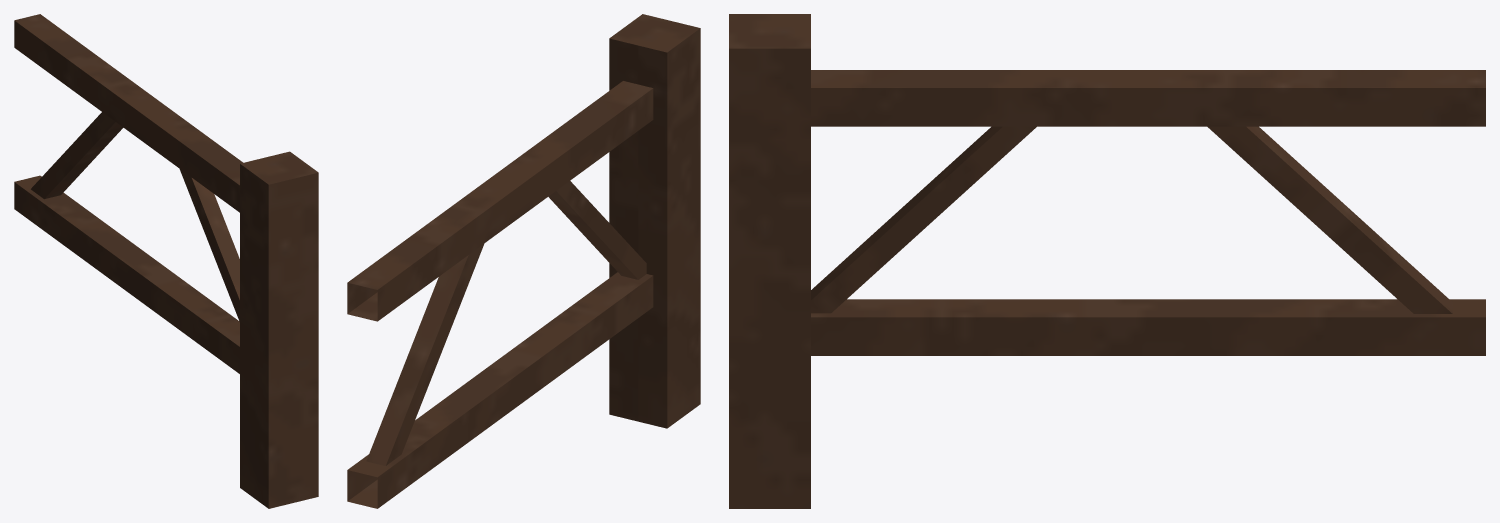
Rendered from Fence1.fbx.
The picture shows the model from 3 angles, left to right: view 1: azimuth 30°, elevation 25°; view 2: azimuth 150°, elevation 25°; view 3: azimuth 270°, elevation 25°; orthographic projection. The views are drawn at different scales.
Visible parts, largest first — view 1: Fence1; view 2: Fence1; view 3: Fence1.
Part boxes in pixels (x1,y1,x2,y2): Fence1: [14, 14, 318, 508]; Fence1: [347, 14, 700, 508]; Fence1: [729, 14, 1485, 508].
Bounding box in the file's own units: 14.51 × 90.06 × 134.
